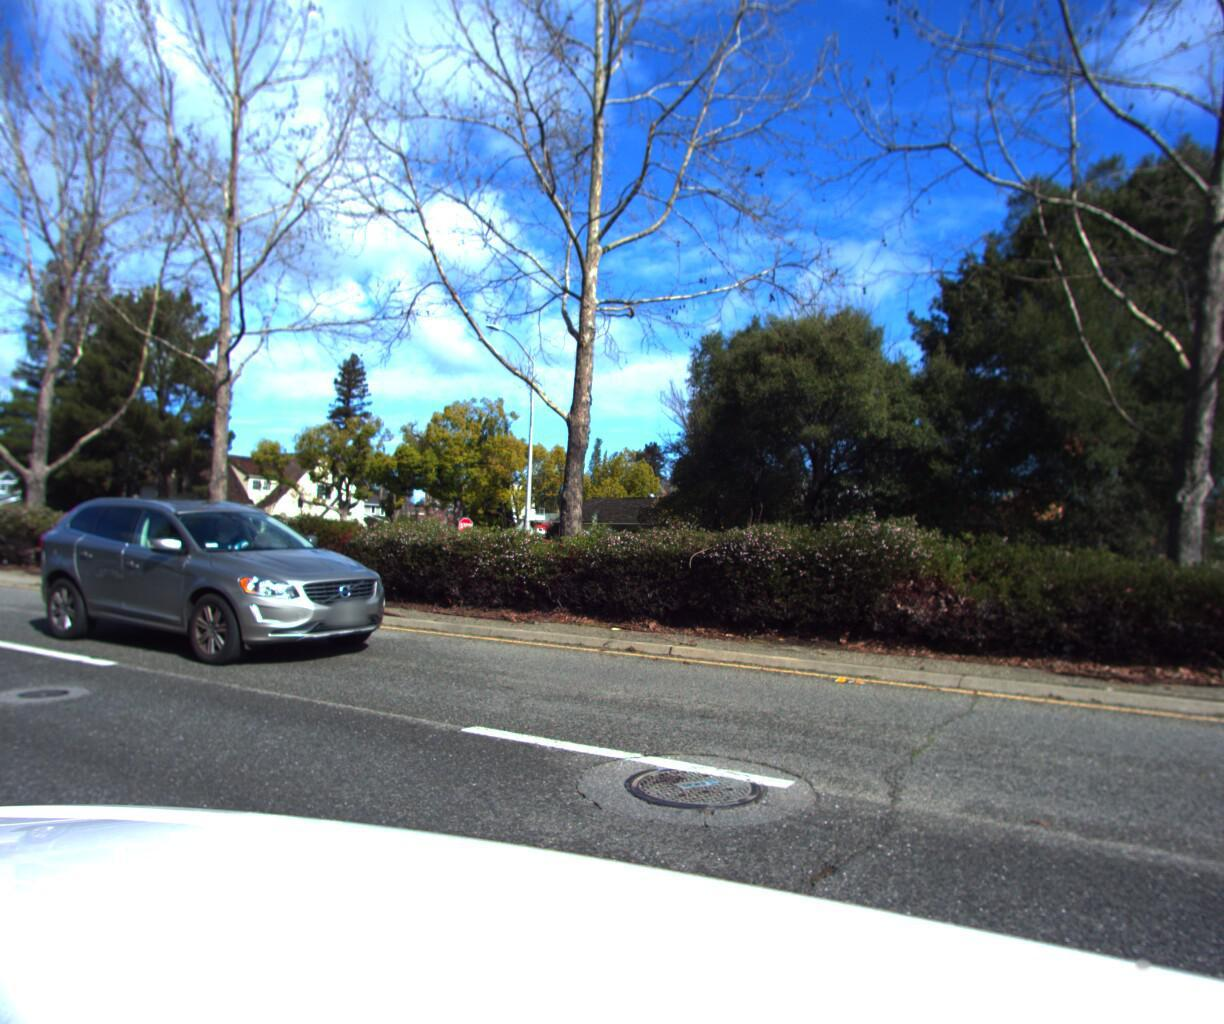car: (21, 487, 424, 675)
